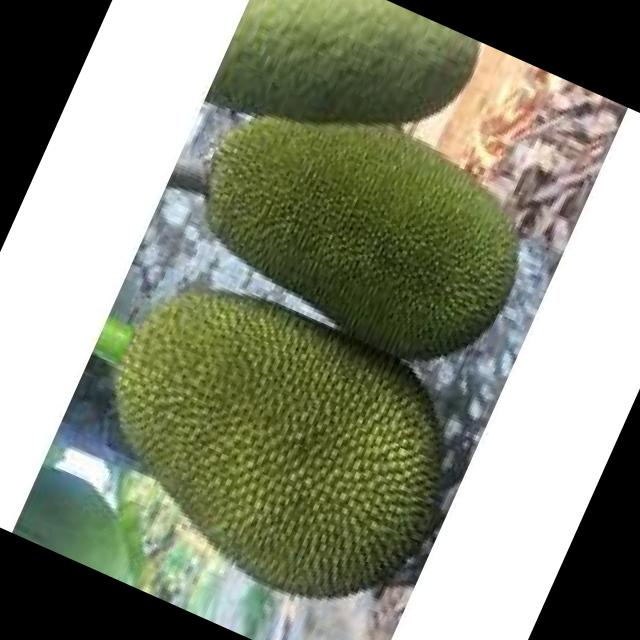Fruit: (49, 234, 503, 640), (156, 44, 569, 404)
